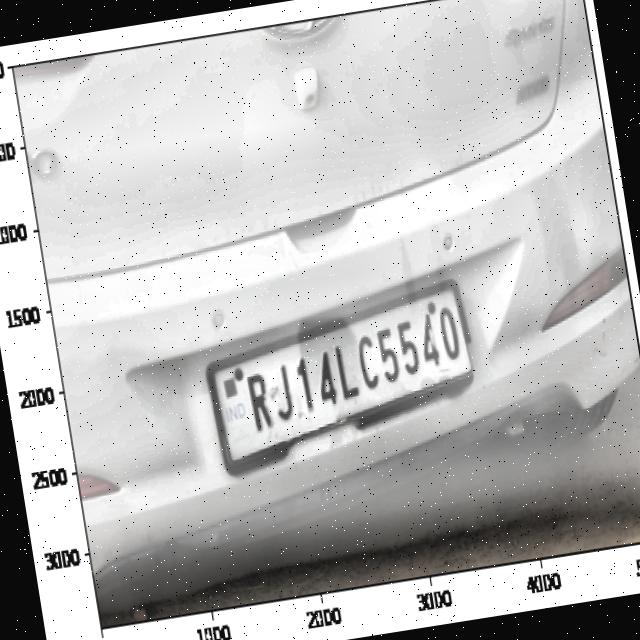license_plate: (232, 299, 476, 444)
